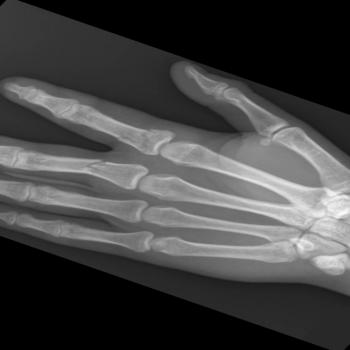Fracture: (76, 155, 120, 178)
